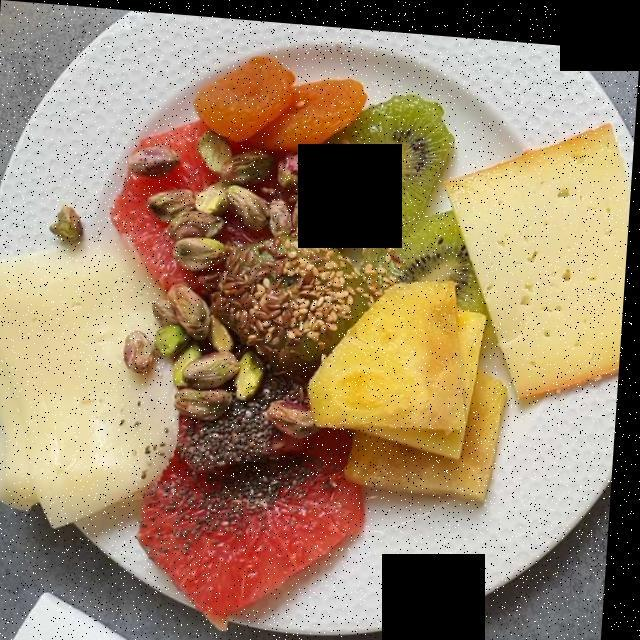apricot-dried: (190, 58, 358, 144)
cheese: (0, 113, 617, 524)
chia-grains: (174, 367, 313, 547)
grapefruit-pomelo: (142, 384, 358, 614)
kiwi: (337, 87, 465, 270)
mixed-seeds: (221, 142, 364, 353)
pineapple: (316, 274, 510, 489)
pistachio: (122, 136, 302, 416)
